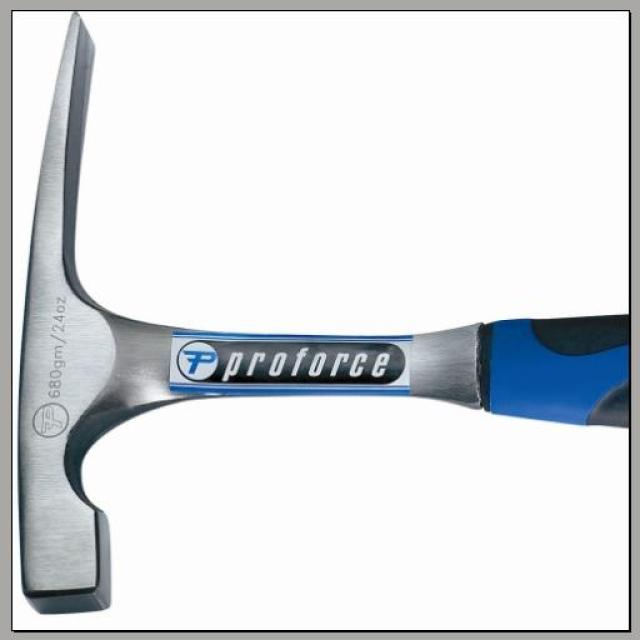hammer: (19, 15, 629, 612)
